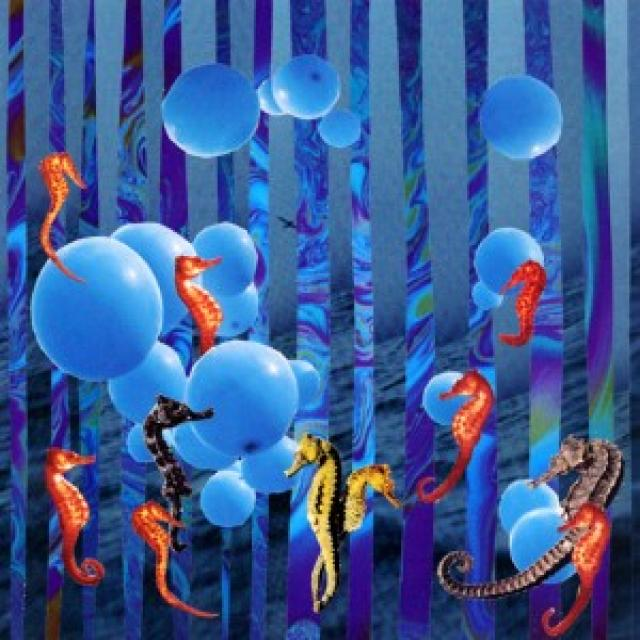Seahorse: (269, 420, 351, 601), (37, 430, 110, 592), (538, 492, 614, 640), (532, 424, 640, 503), (144, 396, 215, 505), (34, 138, 90, 274), (133, 504, 192, 629), (168, 248, 230, 358), (502, 251, 560, 362), (348, 457, 407, 566), (444, 359, 491, 482)
